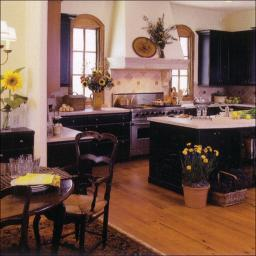Matera: (171, 144, 217, 211)
